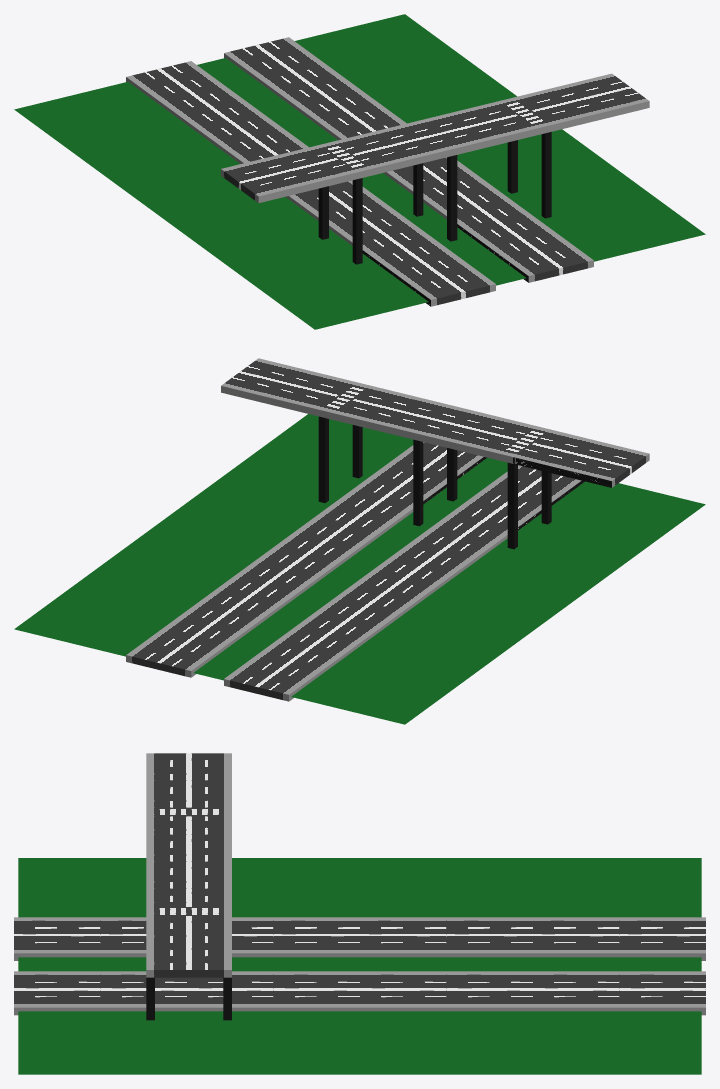
The model's file is land.fbx.
The picture shows the model from 3 angles, top to bottom: view 1: azimuth 30°, elevation 25°; view 2: azimuth 150°, elevation 25°; view 3: azimuth 270°, elevation 25°; orthographic projection. The views are drawn at different scales.
Visible parts, largest first — view 1: Plane, Cube, Cube_008, Cube_007, Cube_003, Cube_006, Cube_002, Cube_004, Cube_005, Cube_001; view 2: Plane, Cube_008, Cube_007, Cube, Cube_001, Cube_004, Cube_005, Cube_002, Cube_006, Cube_003; view 3: Plane, Cube_008, Cube_007, Cube.
Part boxes in pixels (x1,y1,x2,y2): Plane: [14, 14, 705, 329]; Cube: [221, 73, 649, 203]; Cube_008: [224, 37, 593, 282]; Cube_007: [126, 61, 495, 306]; Cube_003: [447, 155, 457, 241]; Cube_006: [541, 132, 551, 218]; Cube_002: [352, 178, 362, 264]; Cube_004: [413, 163, 423, 216]; Cube_005: [507, 140, 517, 193]; Cube_001: [318, 186, 328, 239]; Plane: [14, 414, 705, 724]; Cube_008: [126, 442, 486, 677]; Cube_007: [224, 465, 584, 701]; Cube: [221, 358, 649, 487]; Cube_001: [507, 462, 517, 549]; Cube_004: [413, 439, 423, 526]; Cube_005: [318, 416, 328, 502]; Cube_002: [541, 471, 551, 524]; Cube_006: [352, 425, 362, 478]; Cube_003: [447, 448, 457, 501]; Plane: [18, 858, 701, 1074]; Cube_008: [14, 971, 705, 1015]; Cube_007: [14, 917, 705, 960]; Cube: [146, 753, 231, 977].
Bounding box in the file's own units: 120 × 28 × 162.
